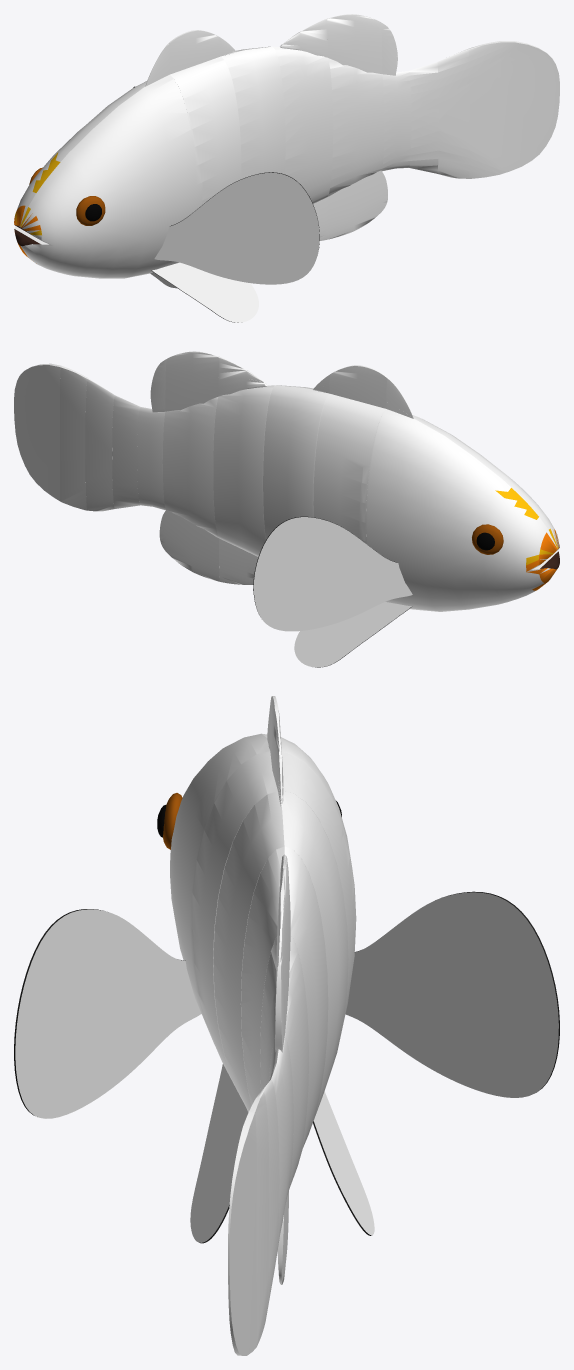
3 views of the same model, one above another, from view 1: azimuth 30°, elevation 25°; view 2: azimuth 150°, elevation 25°; view 3: azimuth 270°, elevation 25° (orthographic). The views are drawn at different scales.
Parts seen in each view (by area): view 1: clownfish.dxf_001; view 2: clownfish.dxf_001; view 3: clownfish.dxf_001.
Part boxes in pixels (x1=…): clownfish.dxf_001: x1=14, y1=14, x2=559, y2=322; clownfish.dxf_001: x1=14, y1=351, x2=559, y2=667; clownfish.dxf_001: x1=14, y1=696, x2=559, y2=1355.
Bounding box in the file's own units: 17.71 × 8.86 × 8.71.
